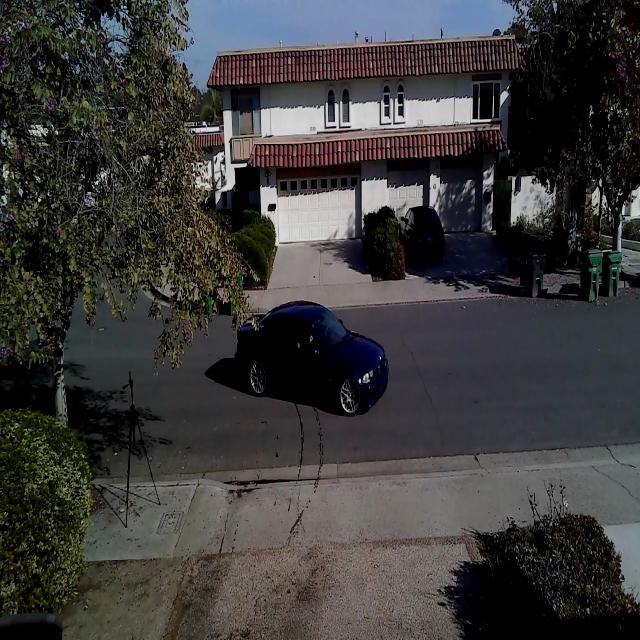Carbeetle: (230, 294, 392, 426)
Civilian: (399, 205, 446, 264)
